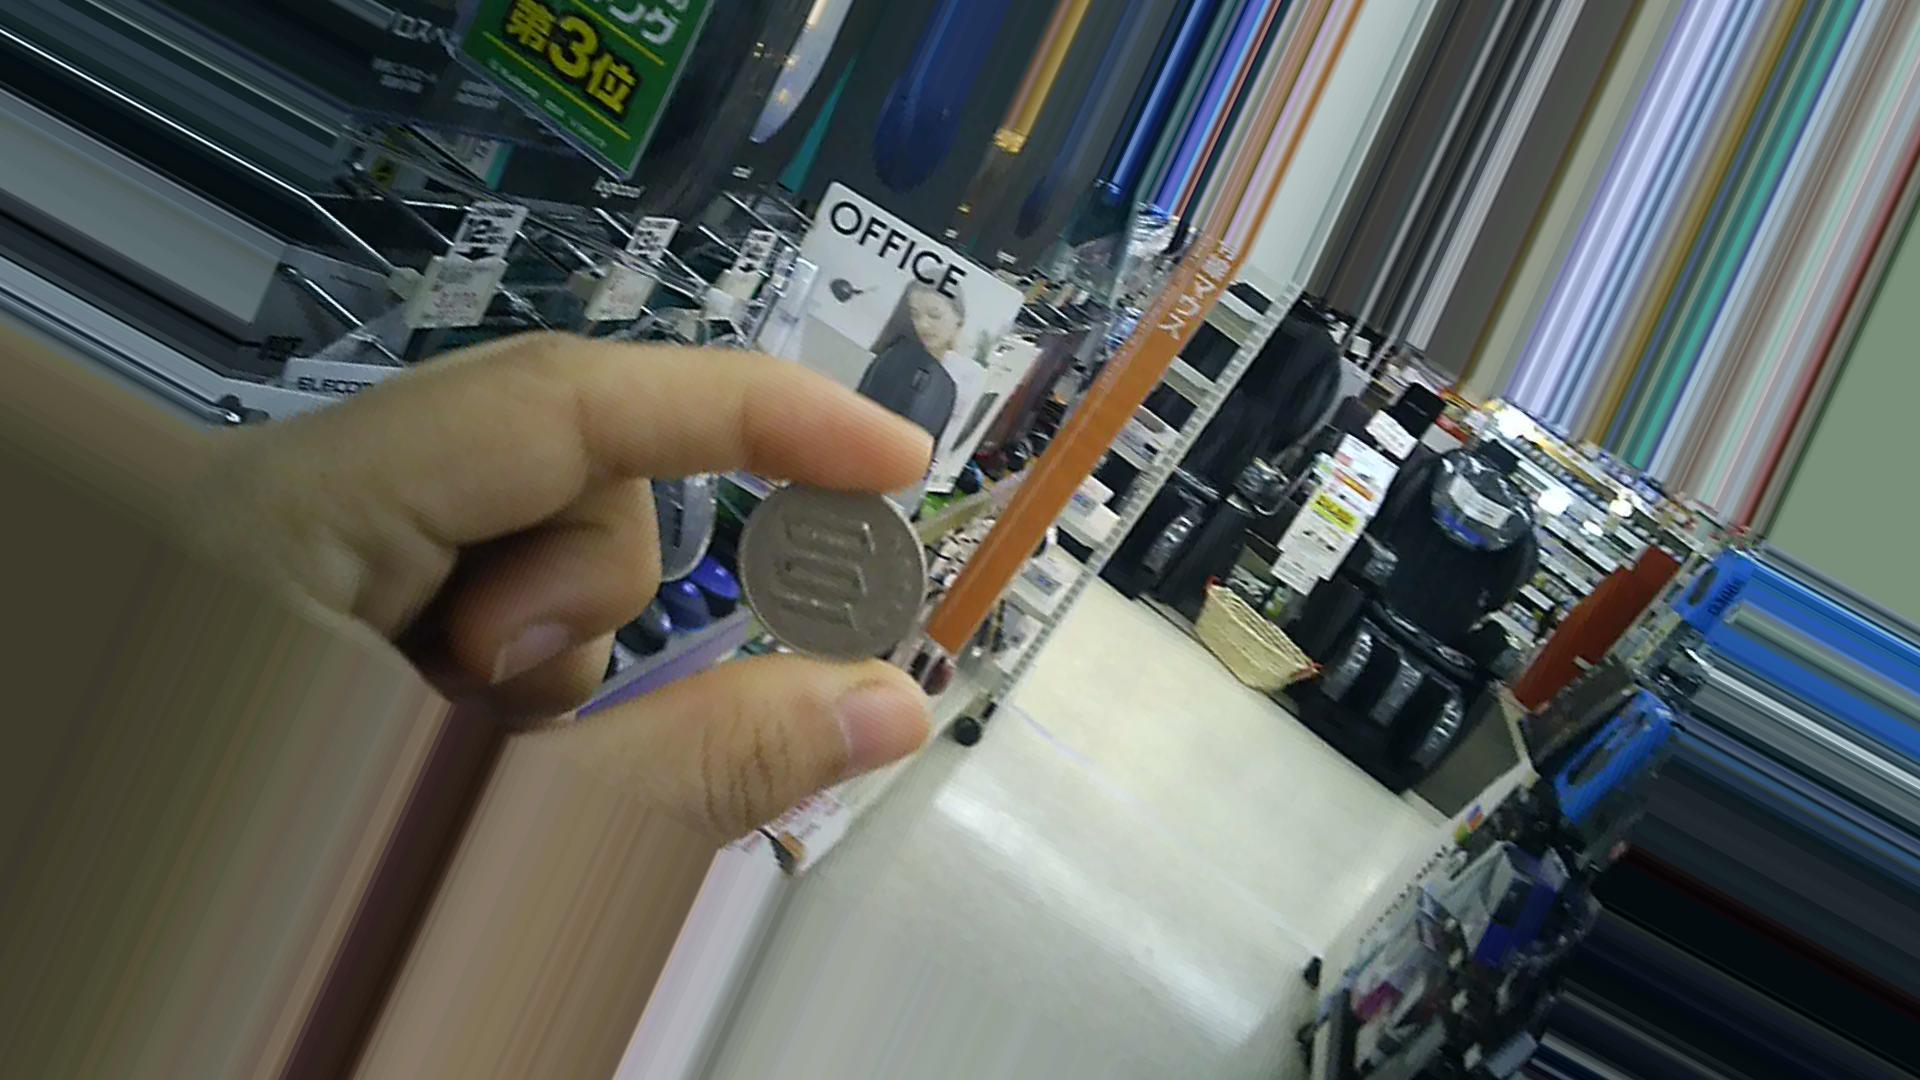100 Yen: (732, 458, 924, 666)
